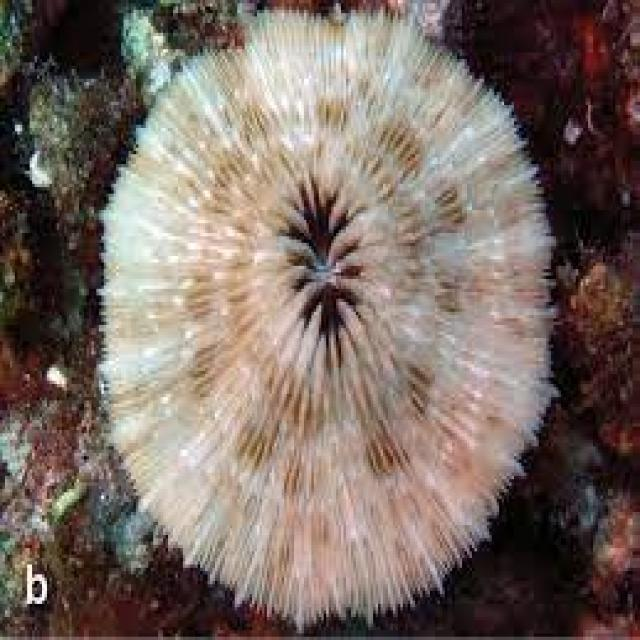Healthy Coral: (96, 14, 559, 635)
